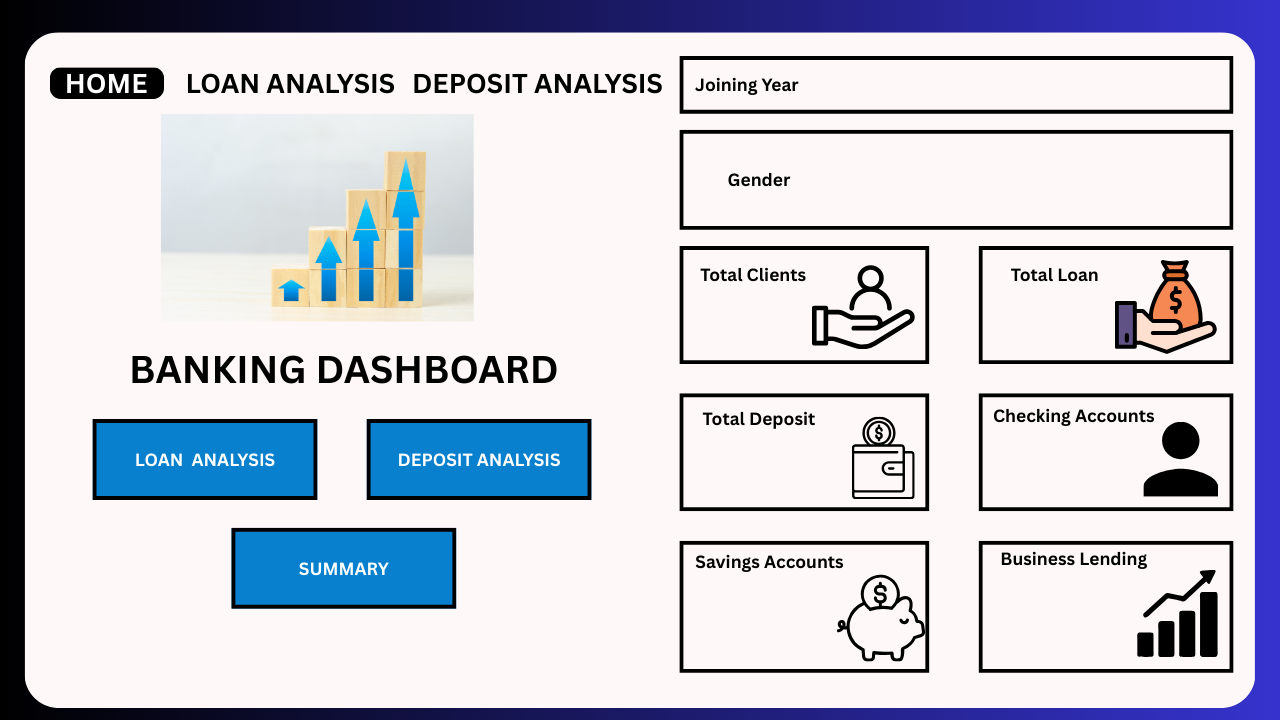

The page's visual inventory and layout, read from the dashboard file:
{"tool":"powerbi","page":{"name":"Home","canvas":[1280,720],"ordinal":0},"visuals":[{"type":"card","fields":{"Values":["Count(Banking.Name)","select"]},"box":[656.5,284.2,173.1,64.9],"z":0},{"type":"slicer","fields":{"Values":["Banking.GenderId"]},"box":[818.1,147.2,388.1,64.9],"z":1000},{"type":"card","fields":{"Values":["Sum(Banking.Total Loan)"]},"box":[917.6,284.2,261.2,64.9],"z":2000},{"type":"card","fields":{"Values":["Sum(Banking.total Deposit)"]},"box":[640.6,430,230.9,62],"z":3000},{"type":"slicer","fields":{"Values":["Banking.Year of Joining"]},"box":[806.5,63.5,419.9,40.4],"z":4000},{"type":"card","fields":{"Values":["Sum(Banking.Checking Accounts)"]},"box":[906.1,424.2,300.1,70.7],"z":5000},{"type":"card","fields":{"Values":["Sum(Banking.Saving Accounts)"]},"box":[606,568.5,300.1,86.6],"z":6000},{"type":"card","fields":{"Values":["Sum(Banking.Business Lending)"]},"box":[943.6,568.5,225.1,83.7],"z":7000},{"type":"actionButton","box":[93.8,412.7,222.2,82.2],"z":7001},{"type":"actionButton","box":[369.4,414.1,223.6,80.8],"z":7002},{"type":"actionButton","box":[180.4,43.3,222.2,60.6],"z":7003},{"type":"actionButton","box":[412.7,43.3,253.9,60.6],"z":7004},{"type":"actionButton","box":[0,0,200,50],"z":7005},{"type":"actionButton","box":[0,0,200,50],"z":7006}]}

Visuals, with their boxes in screenshot pixels (x1, y1, x2, y2), scaled from the page's 1280x720 canvas onto the 1280x720 screenshot:
card - Count(Banking.Name) x select: Rect(656, 284, 830, 349)
slicer - Banking.GenderId: Rect(818, 147, 1206, 212)
card - Sum(Banking.Total Loan): Rect(918, 284, 1179, 349)
card - Sum(Banking.total Deposit): Rect(641, 430, 872, 492)
slicer - Banking.Year of Joining: Rect(806, 64, 1226, 104)
card - Sum(Banking.Checking Accounts): Rect(906, 424, 1206, 495)
card - Sum(Banking.Saving Accounts): Rect(606, 568, 906, 655)
card - Sum(Banking.Business Lending): Rect(944, 568, 1169, 652)
actionButton: Rect(94, 413, 316, 495)
actionButton: Rect(369, 414, 593, 495)
actionButton: Rect(180, 43, 403, 104)
actionButton: Rect(413, 43, 667, 104)
actionButton: Rect(0, 0, 200, 50)
actionButton: Rect(0, 0, 200, 50)
